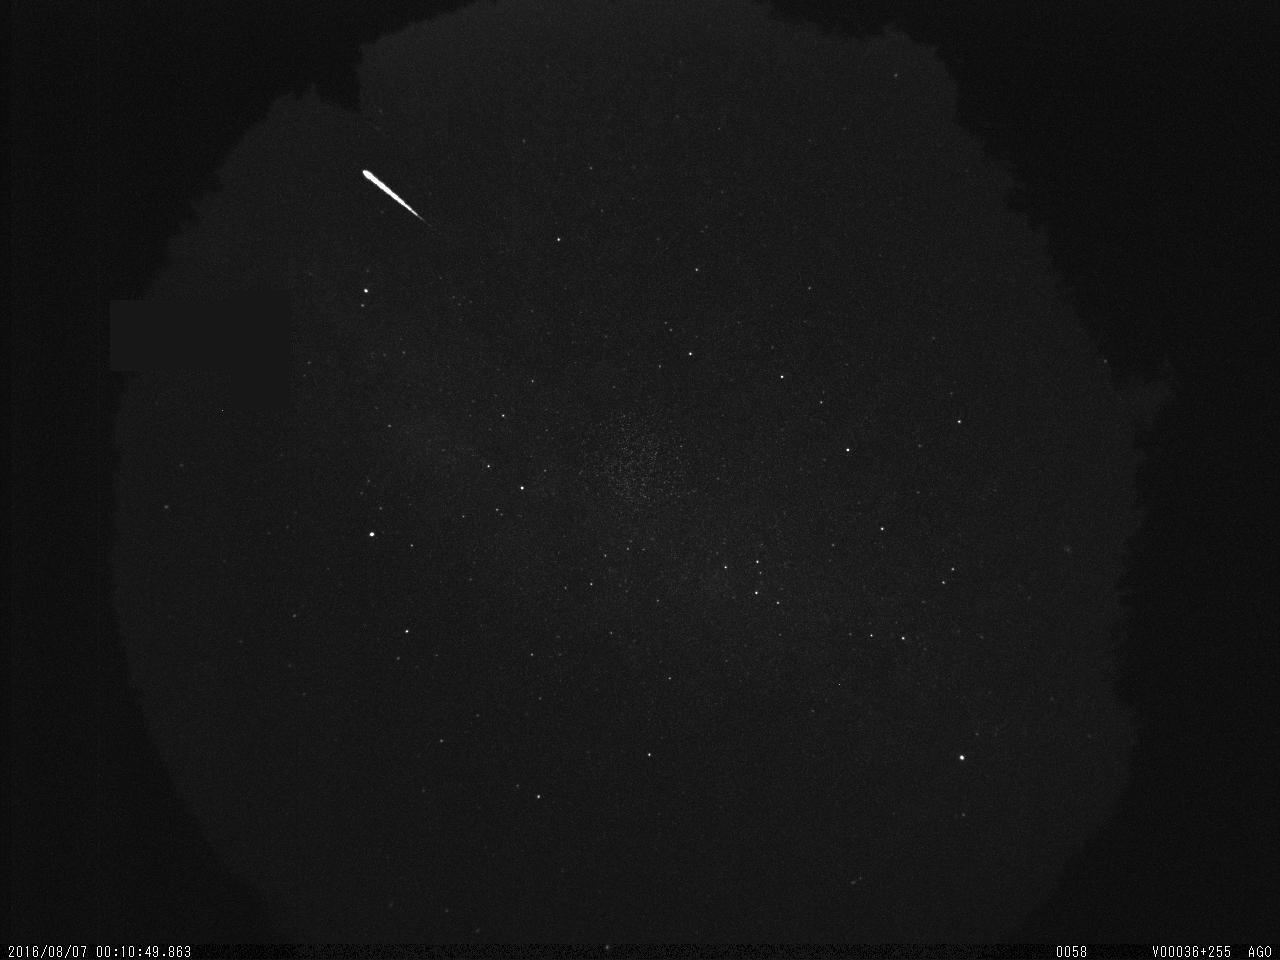meteor: (331, 156, 452, 239)
